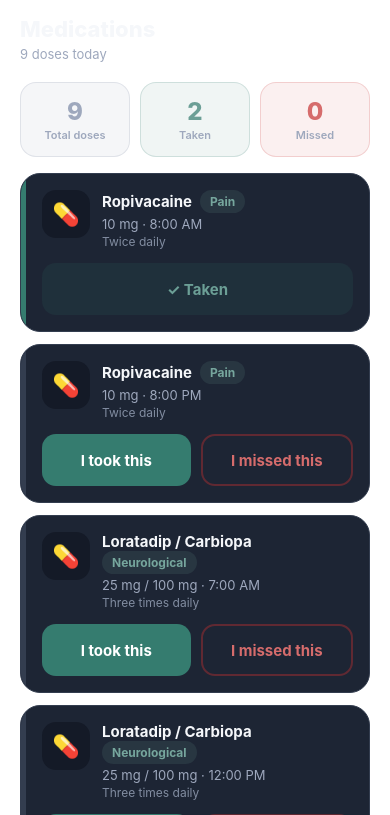
Test: MedicationsScreen › accessibility › announces the missed-confirmation dialog as an alert with named actions
The width and height of the screenshot is (390, 815).
Click the button "I missed this" below "8:00 PM" at coordinates (277, 460), box [200,434,353,486]
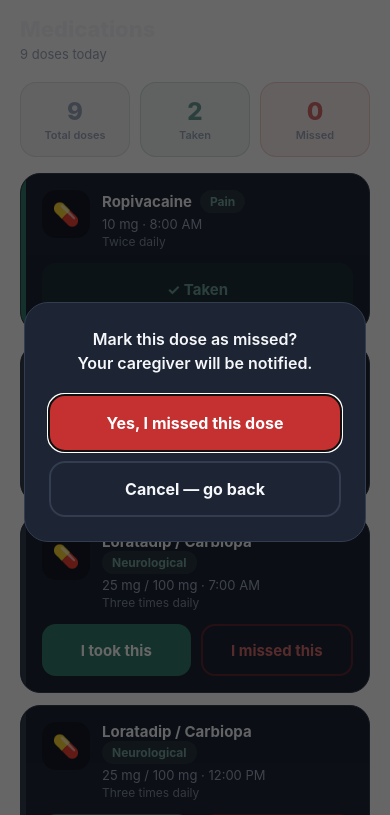
Expected: the message shows "Mark this dose as missed?", [93,329,297,349]
Expected: the button "Yes, I missed this dose" is shown, [49,395,341,451]
Expected: the button "Cancel — go back" is shown, [49,461,341,517]
